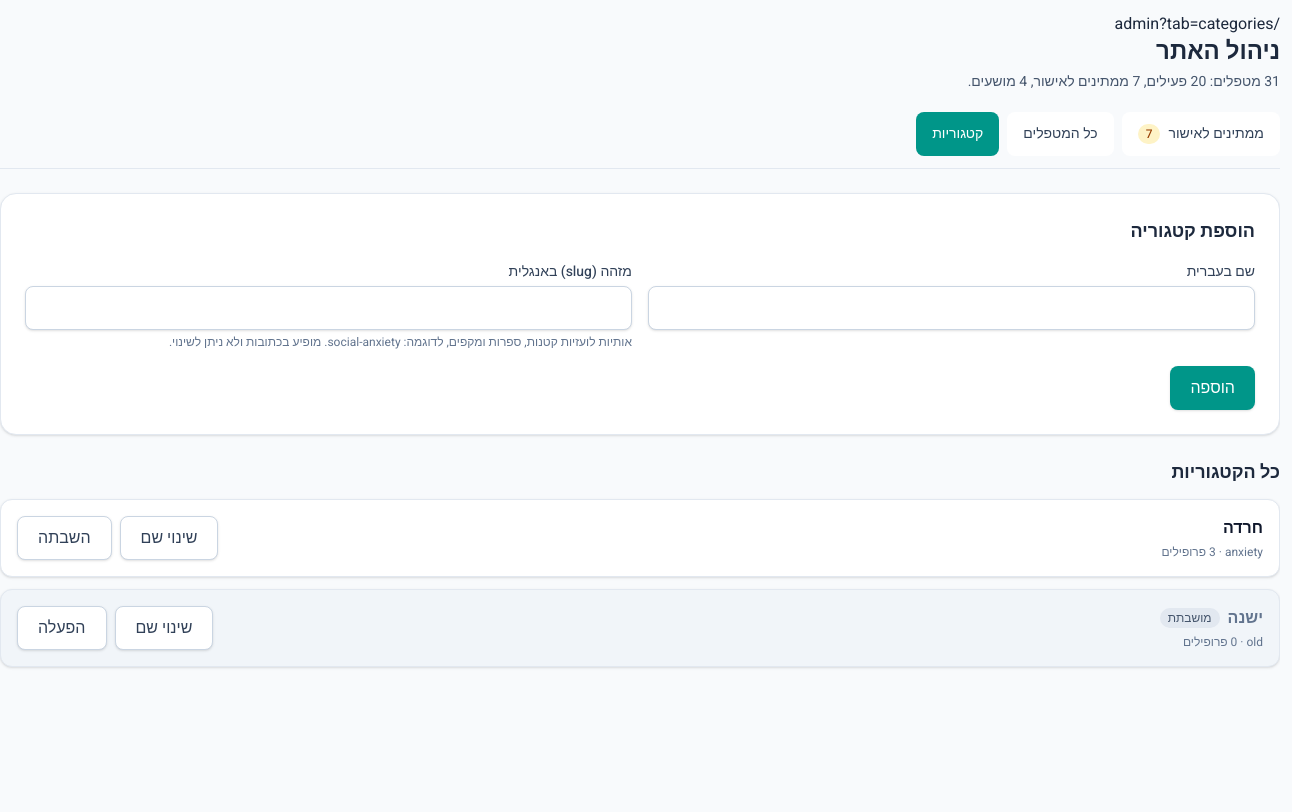
Test: AdminPage: categories › shows a Hebrew message for the server code CATEGORY_SLUG_TAKEN
expect the heading "ניהול האתר" is shown: met, box x1=1156 y1=34 x2=1280 y2=69
expect the text "חרדה" is shown: met, box x1=1223 y1=516 x2=1263 y2=540
In the field labelled "שם בעברית": (952, 308) x1=648 y1=286 x2=1255 y2=330, type "שם כלשהו"
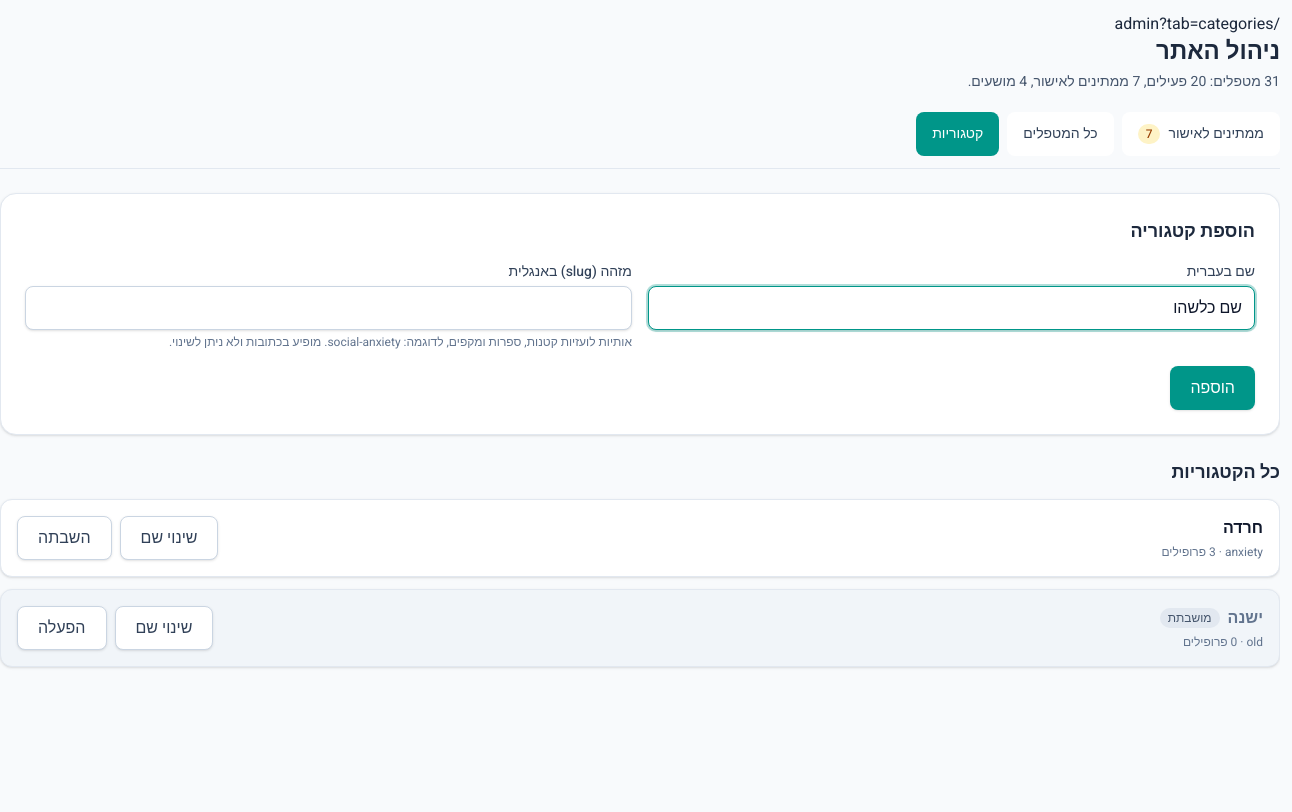
In the field labelled "מזהה (slug) באנגלית": (328, 308) x1=25 y1=286 x2=632 y2=330, type "some-slug"
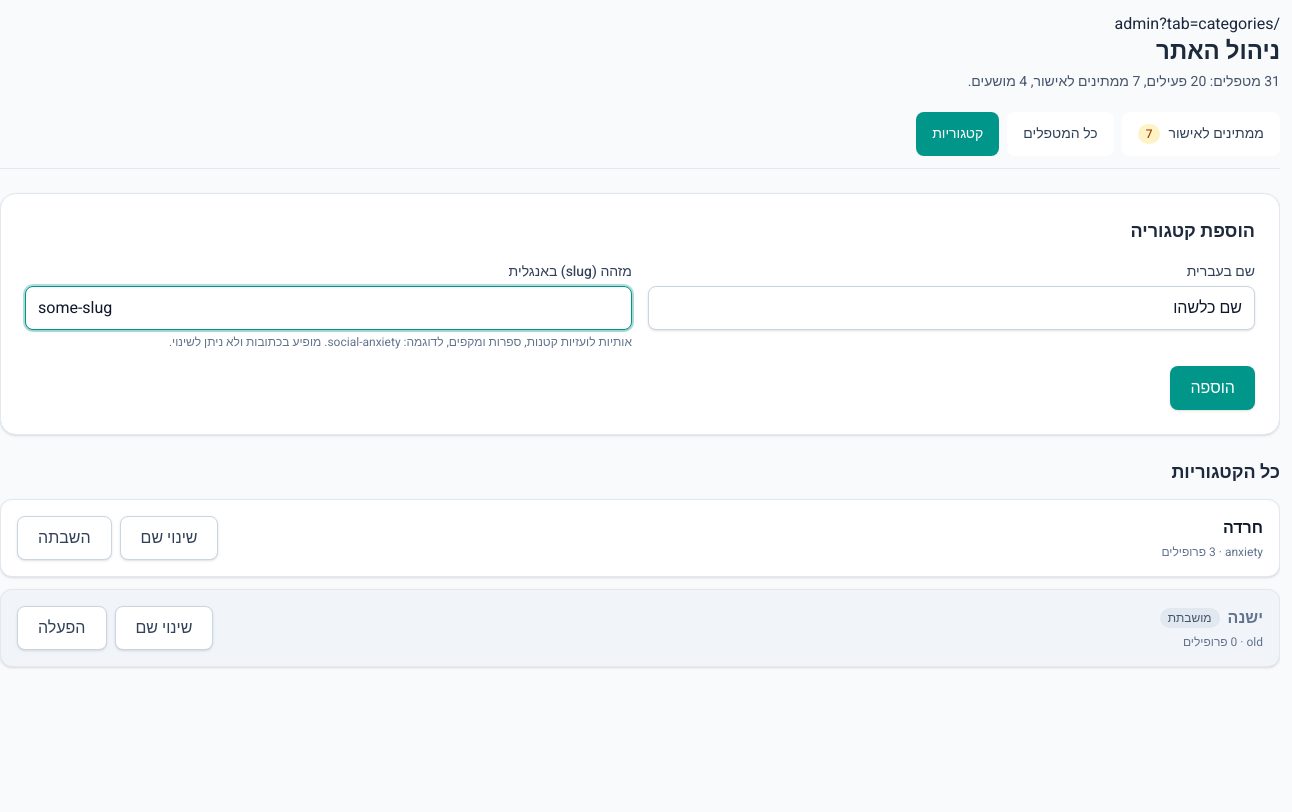
Click the button "הוספה": (1213, 388) x1=1170 y1=366 x2=1255 y2=410
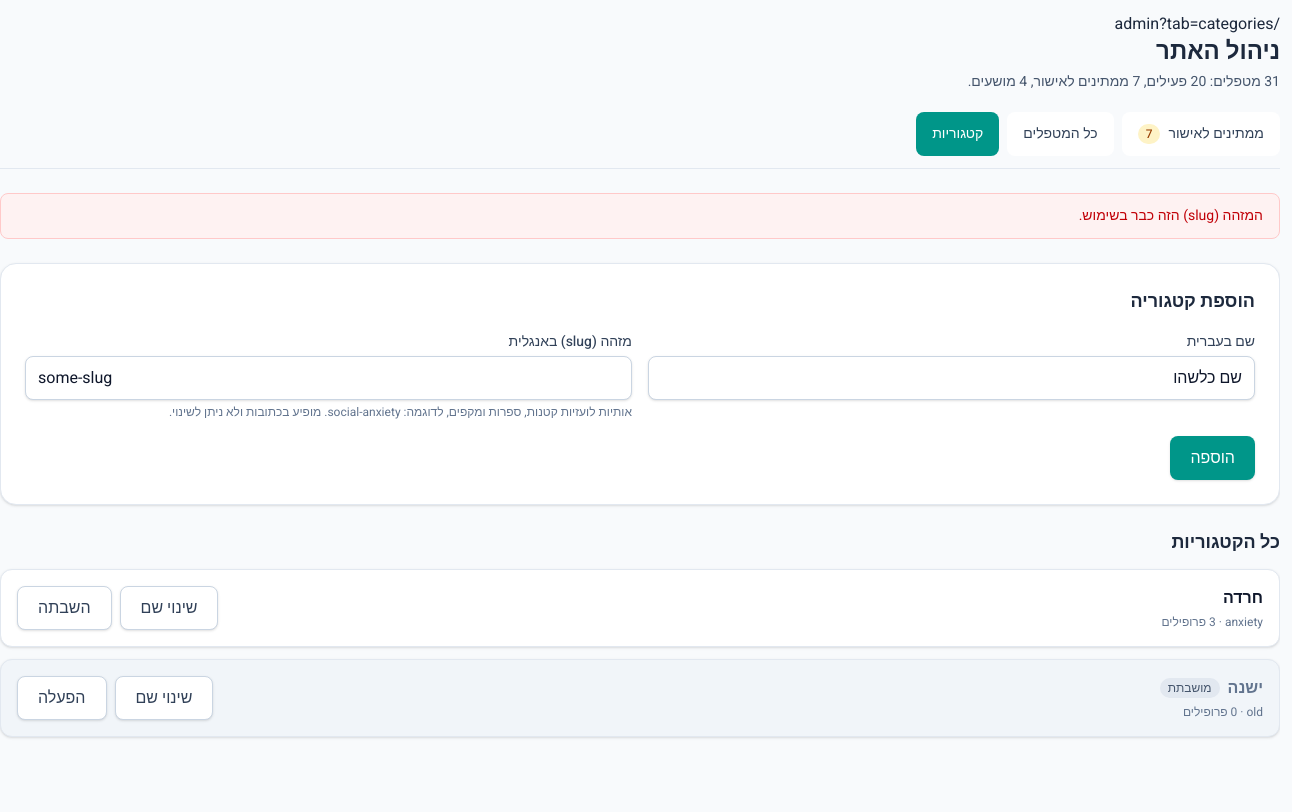
expect the message shows "המזהה (slug) הזה כבר בשימוש": met, box x1=1079 y1=205 x2=1263 y2=226
